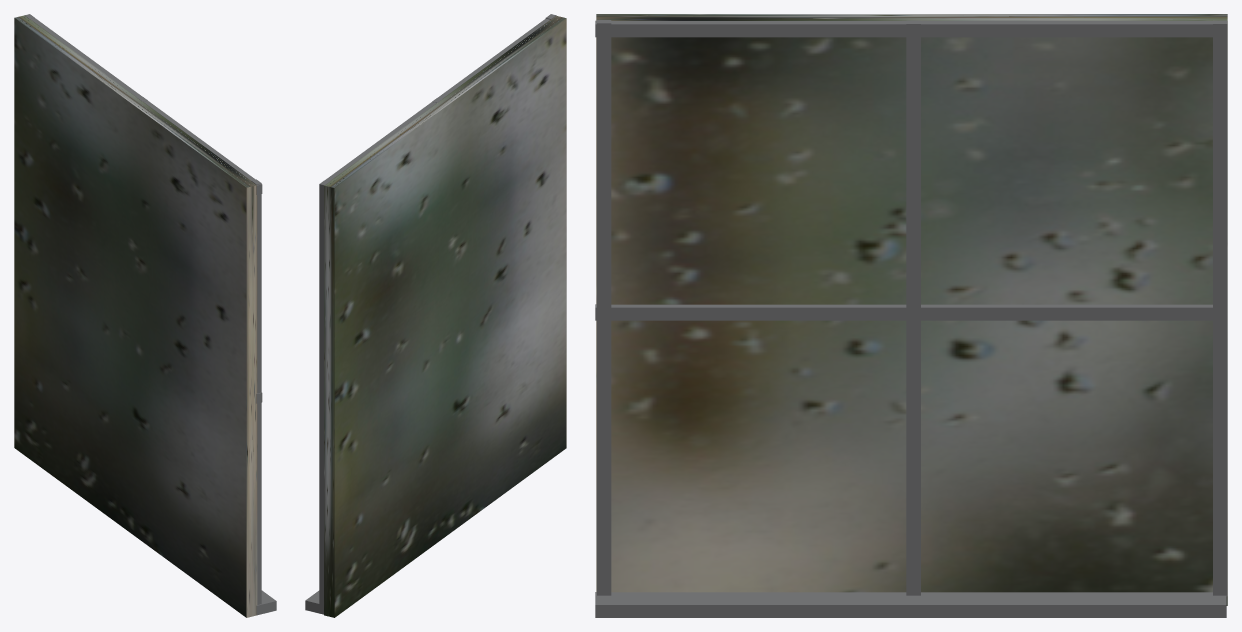
Rendered from Window.glb.
3 views of the same model, side by side, from view 1: azimuth 30°, elevation 25°; view 2: azimuth 150°, elevation 25°; view 3: azimuth 270°, elevation 25° (orthographic). The views are drawn at different scales.
Parts seen in each view (by area): view 1: Cube, Cube.003; view 2: Cube, Cube.003; view 3: Cube, Cube.003.
Boxes of the visible parts, box(x1,y1,x2,y2) form: Cube: box(14, 15, 257, 617); Cube.003: box(25, 14, 276, 615); Cube: box(324, 16, 566, 617); Cube.003: box(305, 14, 556, 614); Cube: box(596, 14, 1227, 605); Cube.003: box(595, 20, 1227, 617).
Size of the model in its own units: 0.5369 by 7.46 by 7.29.
Materials: 2 (1 with a texture image).
